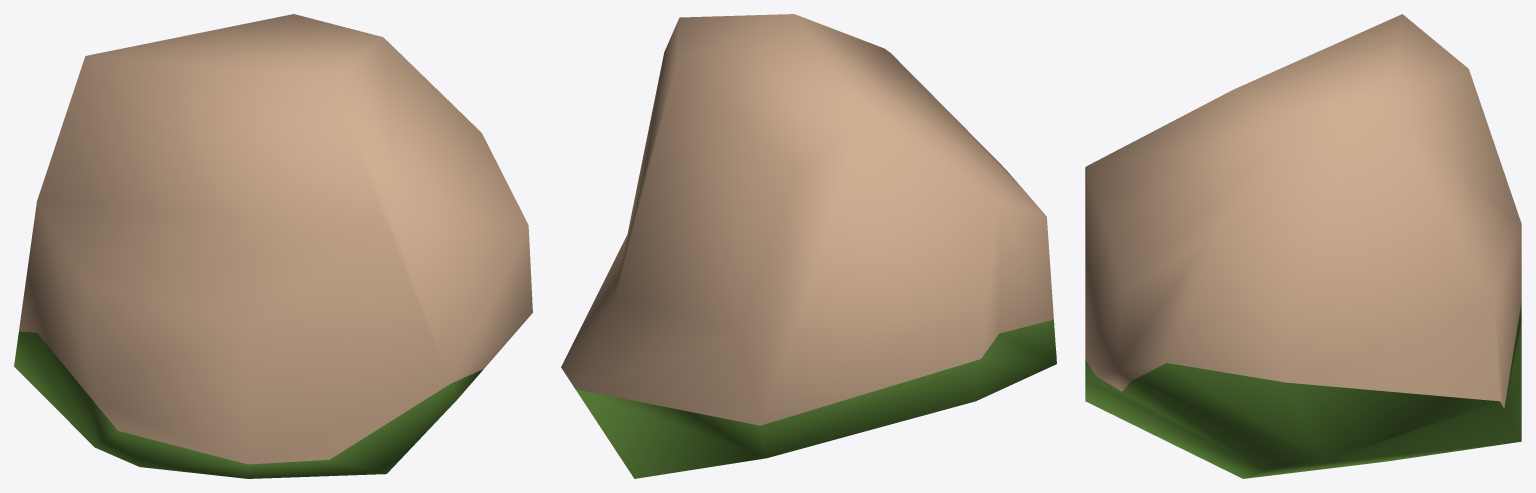
The model's file is Rock5.fbx.
3 views of the same model, side by side, from view 1: azimuth 30°, elevation 25°; view 2: azimuth 150°, elevation 25°; view 3: azimuth 270°, elevation 25° (orthographic). The views are drawn at different scales.
Visible parts, largest first — view 1: Rock5; view 2: Rock5; view 3: Rock5.
Boxes of the visible parts, box(x1,y1,x2,y2) form: Rock5: box(14, 14, 532, 478); Rock5: box(561, 14, 1056, 478); Rock5: box(1085, 14, 1521, 478).
Bounding box in the file's own units: 101 × 93.62 × 101.
